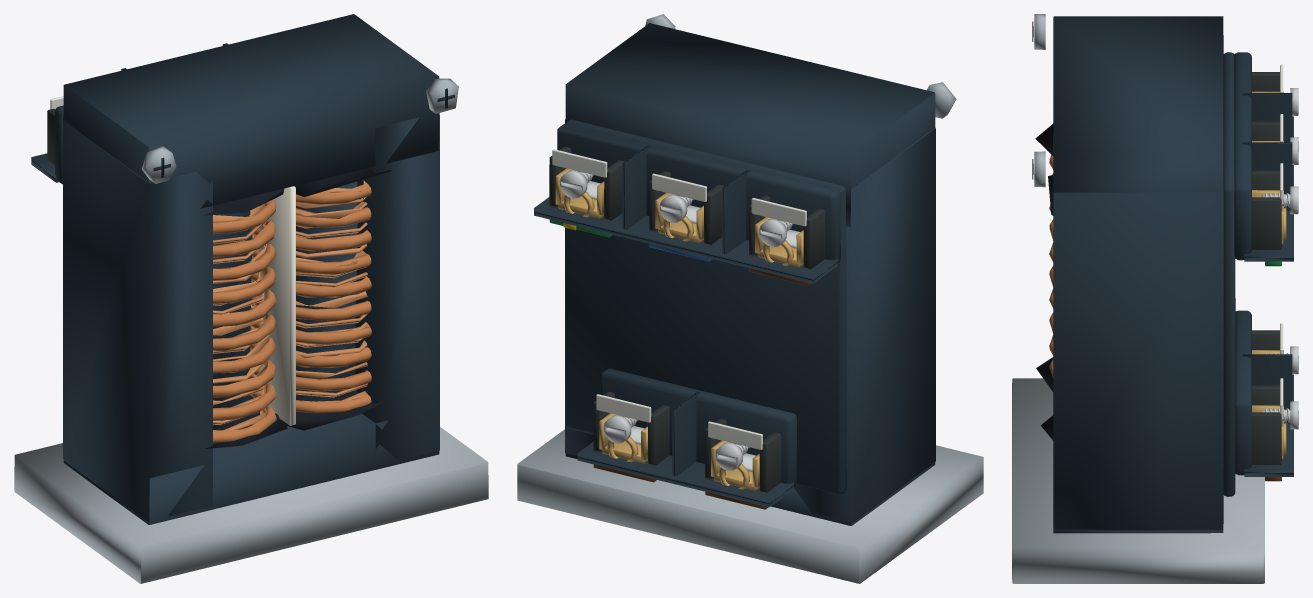
The model's file is transformer_default.low.glb.
3 renders of one model, left to right at view 1: azimuth 30°, elevation 25°; view 2: azimuth 150°, elevation 25°; view 3: azimuth 270°, elevation 25°, orthographic.
Visible parts, largest first — view 1: part:body · Original a463fd81, part:body · Original 2a8198d3, part:winding.001, part:winding, detail:converter-specific-core · Detail oxygen-free copper, Primary secondary barrier, part:winding.001 · Original 3ff2d46d, part:mounting · Original 2a8198d3, part:winding · Original 3ff2d46d, part:terminals · Original a463fd81; view 2: part:terminals · Original a463fd81, part:body · Original a463fd81, part:body · Original 2a8198d3, detail:terminal-clamp:+ · Detail moulded engineering polymer, detail:terminal-clamp:- · Detail moulded engineering polymer, detail:terminal-clamp:L · Detail moulded engineering polymer, detail:terminal-clamp:PE · Detail moulded engineering polyme, detail:terminal-clamp:N · Detail moulded engineering polymer, detail:terminal-clamp:+ · Detail machined brass, detail:terminal-clamp:L · Detail machined brass, detail:terminal-clamp:N · Detail machined brass, detail:terminal-clamp:PE · Detail machined brass (+12 smaller); view 3: part:body · Original a463fd81, part:body · Original 2a8198d3, part:terminals · Original a463fd81, detail:terminal-clamp:- · Detail moulded engineering polymer, detail:terminal-clamp:PE · Detail moulded engineering polyme, part:mounting · Original 2a8198d3, part:winding · Original 3ff2d46d, detail:terminal-clamp:+ · Detail moulded engineering polymer, detail:terminal-clamp:L · Detail moulded engineering polymer, detail:terminal-clamp:N · Detail moulded engineering polymer, part:winding, detail:terminal-clamp:PE · Detail zinc plated fixing (+3 smaller).
Boxes of the visible parts, x1,y1,x2,y2 form: part:body · Original a463fd81: (63, 14, 439, 524); part:body · Original 2a8198d3: (14, 427, 488, 583); part:winding.001: (250, 181, 371, 413); part:winding: (213, 199, 276, 443); detail:converter-specific-core · Detail oxygen-free copper: (213, 180, 369, 430); Primary secondary barrier: (254, 186, 295, 425); part:winding.001 · Original 3ff2d46d: (275, 168, 391, 430); part:mounting · Original 2a8198d3: (141, 78, 458, 183); part:winding · Original 3ff2d46d: (203, 188, 287, 448); part:terminals · Original a463fd81: (31, 43, 253, 305); part:terminals · Original a463fd81: (534, 119, 846, 507); part:body · Original a463fd81: (565, 23, 935, 525); part:body · Original 2a8198d3: (517, 429, 983, 583); detail:terminal-clamp:+ · Detail moulded engineering polymer: (705, 419, 781, 493); detail:terminal-clamp:- · Detail moulded engineering polymer: (593, 391, 669, 465); detail:terminal-clamp:L · Detail moulded engineering polymer: (749, 195, 825, 269); detail:terminal-clamp:PE · Detail moulded engineering polyme: (549, 146, 624, 220); detail:terminal-clamp:N · Detail moulded engineering polymer: (649, 171, 723, 245); detail:terminal-clamp:+ · Detail machined brass: (711, 440, 759, 490); detail:terminal-clamp:L · Detail machined brass: (755, 217, 803, 267); detail:terminal-clamp:N · Detail machined brass: (655, 192, 703, 242); detail:terminal-clamp:PE · Detail machined brass: (555, 168, 604, 218); part:body · Original a463fd81: (1053, 16, 1223, 533); part:body · Original 2a8198d3: (1012, 378, 1264, 583); part:terminals · Original a463fd81: (1223, 52, 1293, 496); detail:terminal-clamp:- · Detail moulded engineering polymer: (1252, 385, 1282, 464); detail:terminal-clamp:PE · Detail moulded engineering polyme: (1252, 170, 1282, 249); part:mounting · Original 2a8198d3: (1034, 14, 1045, 187); part:winding · Original 3ff2d46d: (1035, 123, 1053, 391); detail:terminal-clamp:+ · Detail moulded engineering polymer: (1252, 330, 1279, 349); detail:terminal-clamp:L · Detail moulded engineering polymer: (1252, 72, 1279, 91); detail:terminal-clamp:N · Detail moulded engineering polymer: (1252, 121, 1279, 140); part:winding: (1049, 155, 1053, 378); detail:terminal-clamp:PE · Detail zinc plated fixing: (1262, 186, 1298, 214).
Bounding box in the file's own units: 0.7267 × 0.842 × 0.5214.
